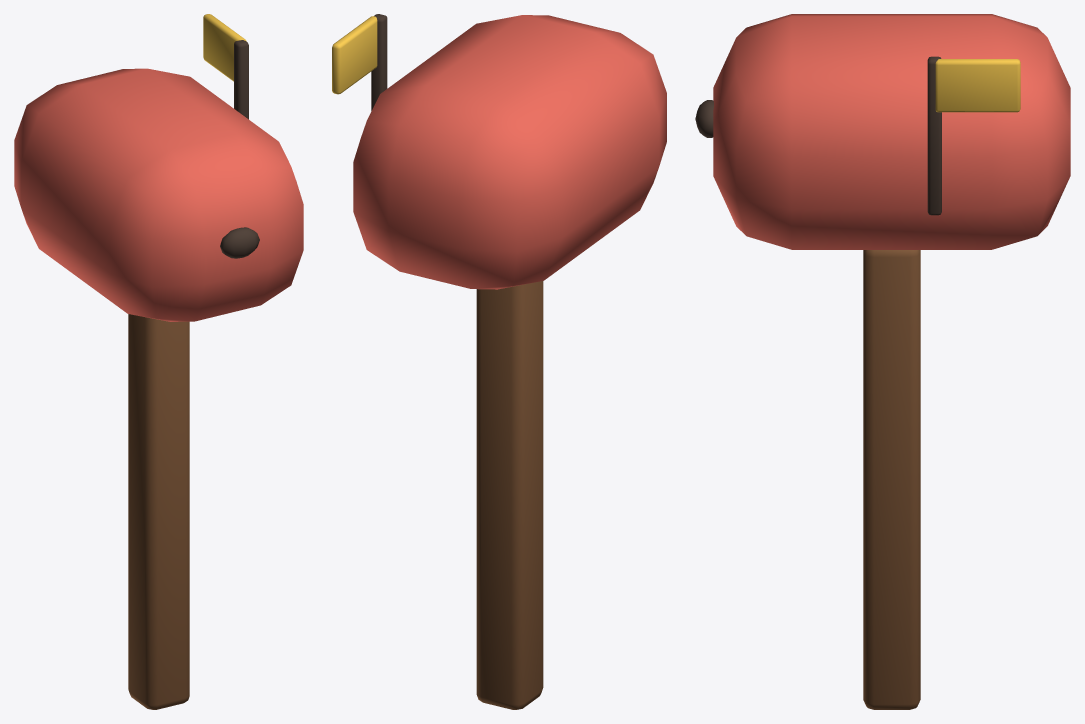
Rendered from mailbox.glb.
3 renders of one model, left to right at view 1: azimuth 30°, elevation 25°; view 2: azimuth 150°, elevation 25°; view 3: azimuth 270°, elevation 25°, orthographic. The views are drawn at different scales.
Parts seen in each view (by area): view 1: mailbox.001; view 2: mailbox.001; view 3: mailbox.001.
Part boxes in pixels (x1,y1,x2,y2): mailbox.001: (14,14,303,709); mailbox.001: (332,14,666,709); mailbox.001: (695,14,1070,709).
Size of the model in its own units: 0.3675 by 1.08 by 0.525.
